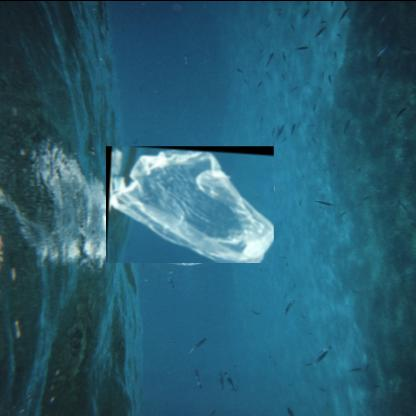plastic-bag: (106, 144, 275, 262)
